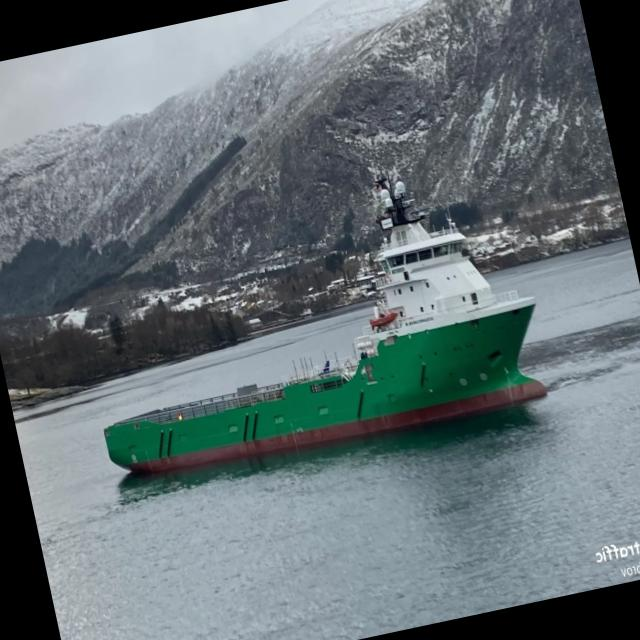Offshore: (104, 175, 546, 473)
